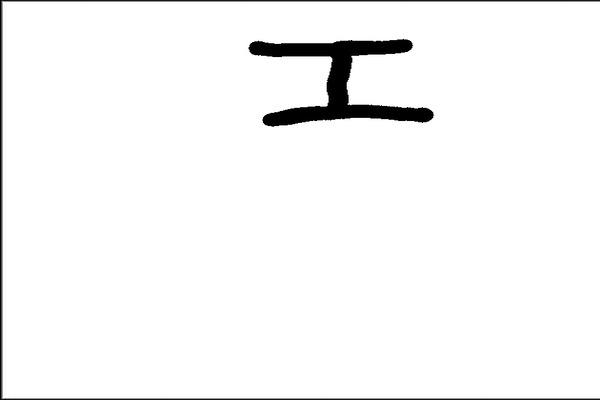i: (237, 29, 441, 129)
